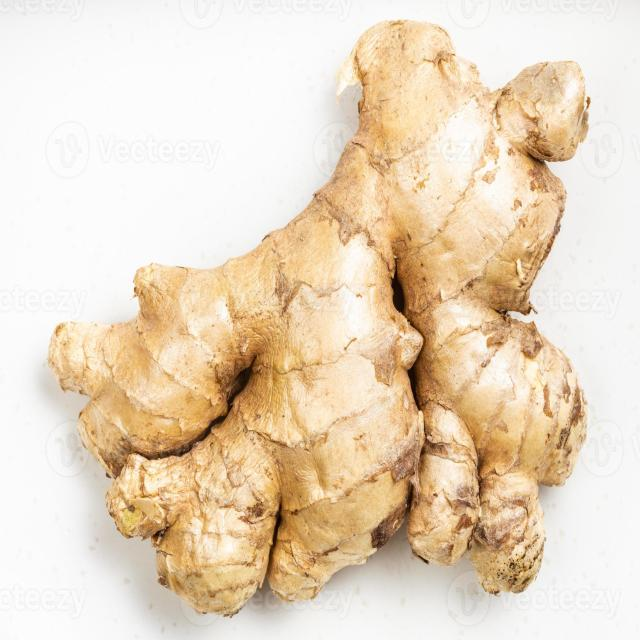ginger-root: (39, 11, 593, 624)
